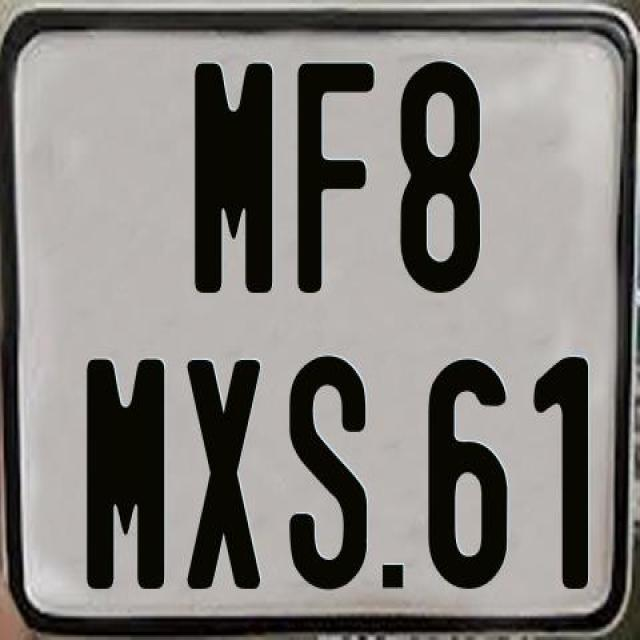1: (532, 356, 587, 594)
6: (424, 355, 509, 595)
8: (398, 59, 486, 293)
F: (296, 61, 380, 292)
M: (82, 354, 168, 590), (193, 58, 271, 294)
S: (285, 354, 363, 598)
X: (186, 355, 266, 587)
